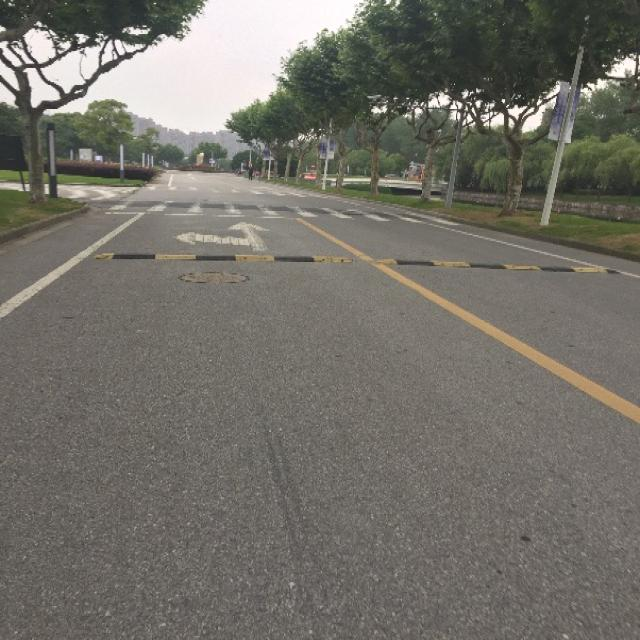Speed Bump: (373, 250, 618, 274), (95, 250, 356, 264)
